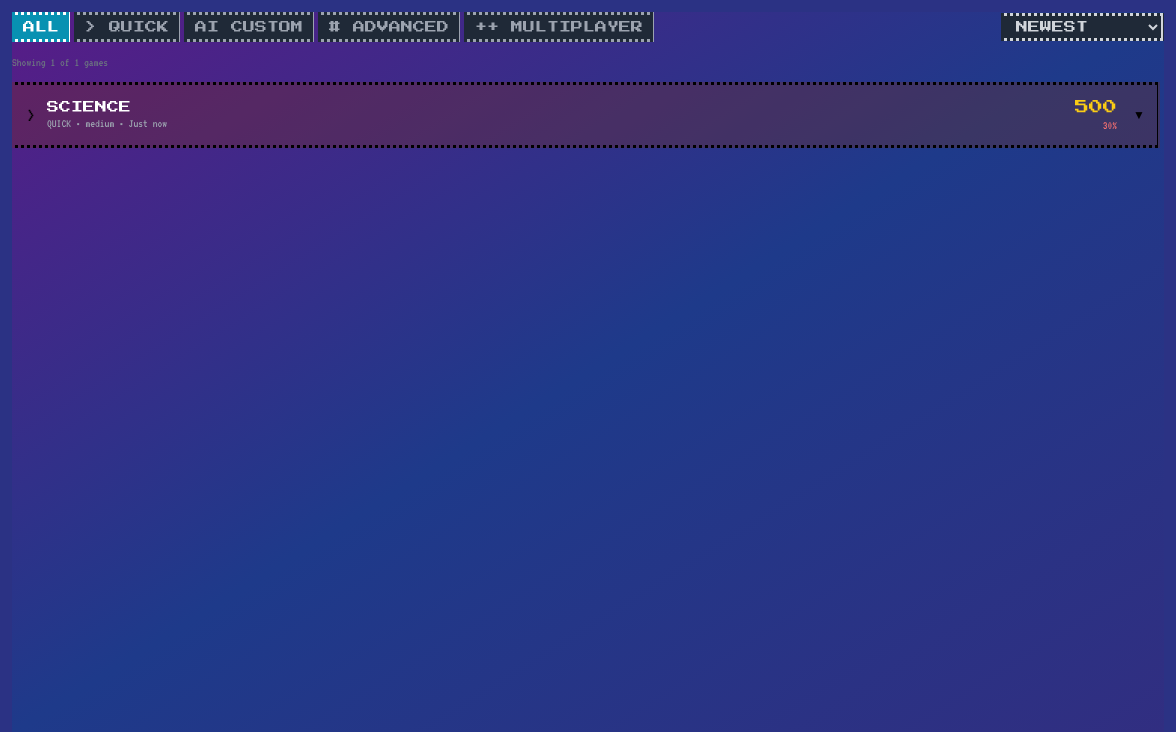
GameHistoryList › with entries › shows KEEP AT IT badge for <50%
The image size is (1176, 732).
Click the button with aria-label "game details" at (89, 107), box [15,85,1157,145]
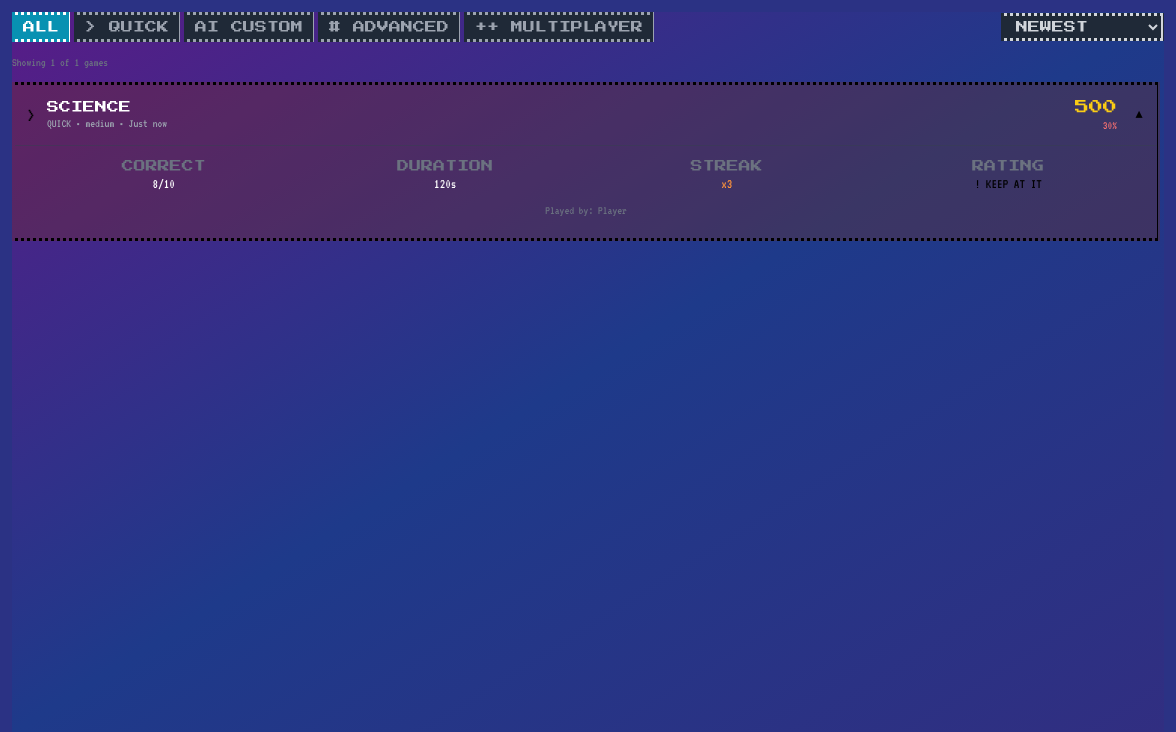
Expected: the text "! KEEP AT IT" is shown, [975,177,1042,191]
